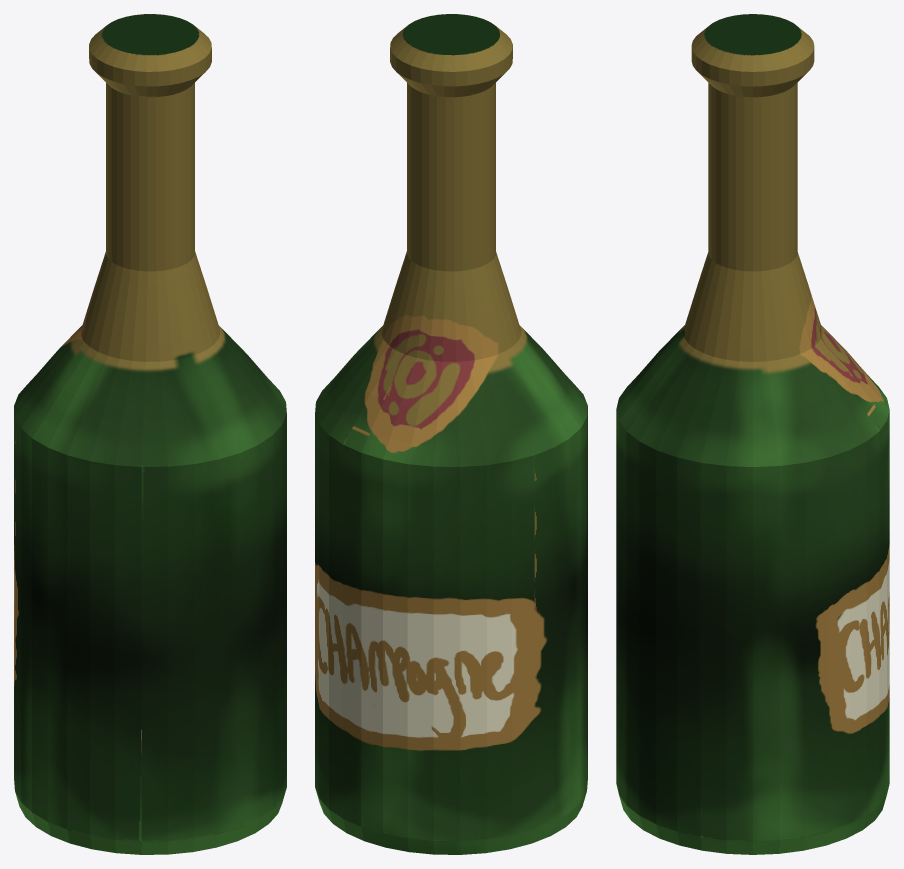
Rendered from Champagne.fbx.
The picture shows the model from 3 angles, left to right: view 1: azimuth 30°, elevation 25°; view 2: azimuth 150°, elevation 25°; view 3: azimuth 270°, elevation 25°; orthographic projection.
Parts seen in each view (by area): view 1: Circle; view 2: Circle; view 3: Circle.
Boxes of the visible parts, x1,y1,x2,y2 form: Circle: [14, 14, 286, 854]; Circle: [315, 14, 587, 854]; Circle: [616, 14, 889, 854].
Size of the model in its own units: 207 by 638 by 207.
